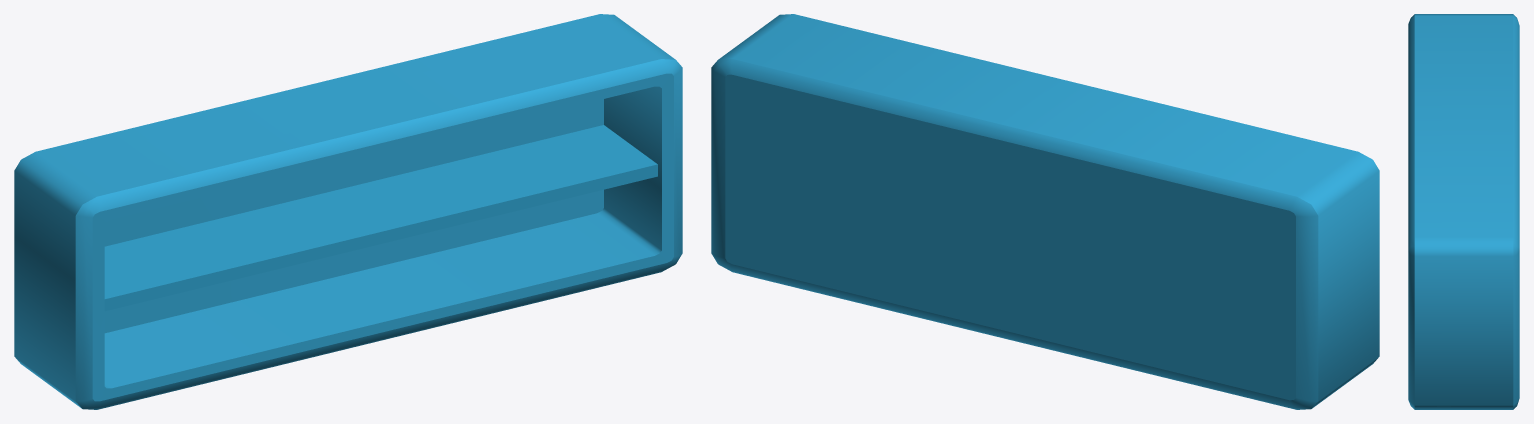
File: Furnit_H_16.glb
The picture shows the model from 3 angles, left to right: view 1: azimuth 30°, elevation 25°; view 2: azimuth 150°, elevation 25°; view 3: azimuth 270°, elevation 25°; orthographic projection. The views are drawn at different scales.
Visible parts, largest first — view 1: Furnit_H_16; view 2: Furnit_H_16; view 3: Furnit_H_16.
Boxes of the visible parts, bbox=[...] form: Furnit_H_16: bbox=[14, 14, 682, 409]; Furnit_H_16: bbox=[711, 14, 1379, 409]; Furnit_H_16: bbox=[1408, 14, 1519, 409].
Bounding box in the file's own units: 1.8 × 0.6043 × 0.3574.
Materials: 1 (1 with a texture image).
